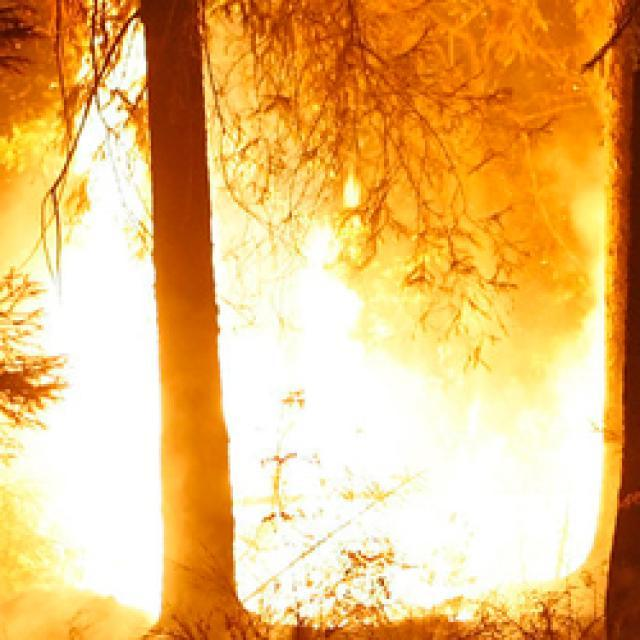Fire: (6, 296, 586, 599), (0, 0, 416, 380)
